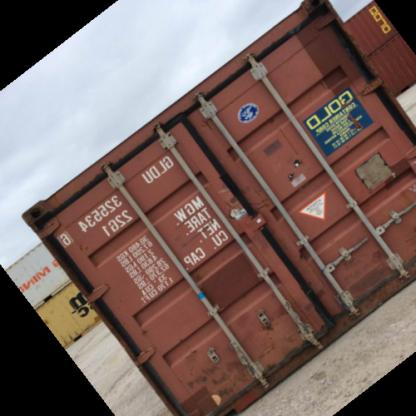Damage: (180, 344, 252, 396), (208, 169, 272, 224), (264, 290, 324, 348), (354, 236, 406, 296), (333, 83, 369, 130), (70, 238, 94, 262)
